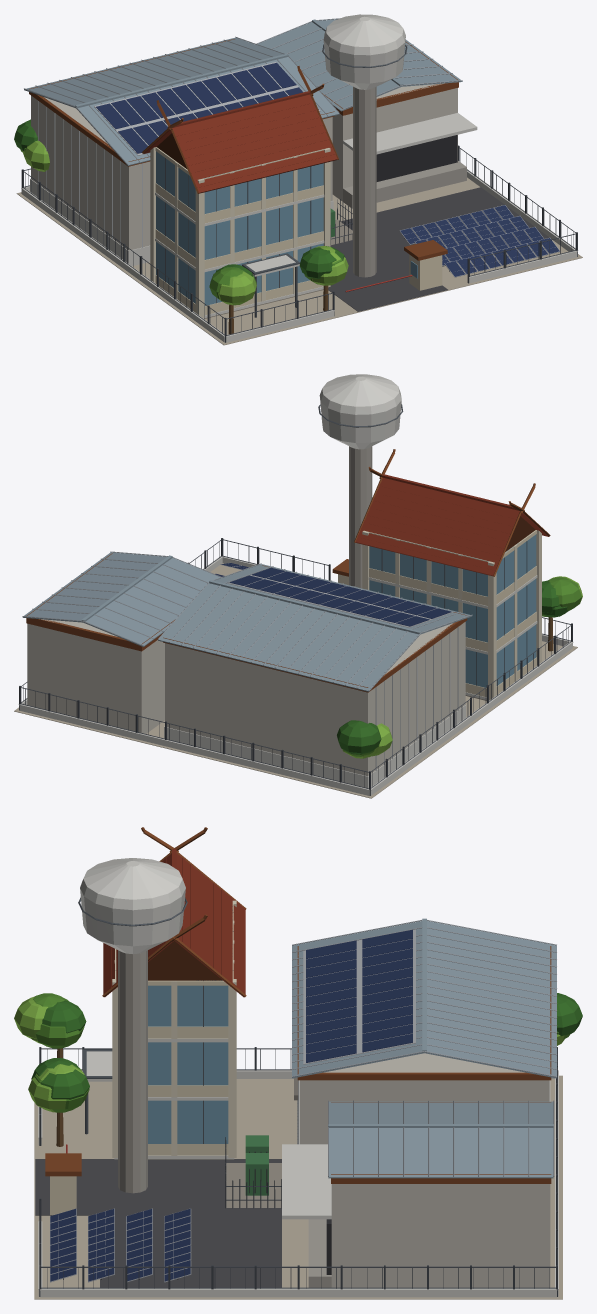
The model's file is factory_4.glb.
The picture shows the model from 3 angles, top to bottom: view 1: azimuth 30°, elevation 25°; view 2: azimuth 150°, elevation 25°; view 3: azimuth 270°, elevation 25°; orthographic projection. The views are drawn at different scales.
Visible parts, largest first — view 1: body; view 2: body; view 3: body.
Boxes of the visible parts, left/top/right/bottom form: body: left=14, top=14, right=582, bottom=345; body: left=14, top=374, right=582, bottom=798; body: left=14, top=827, right=582, bottom=1299.
Size of the model in its own units: 32.41 by 21.63 by 34.34.
